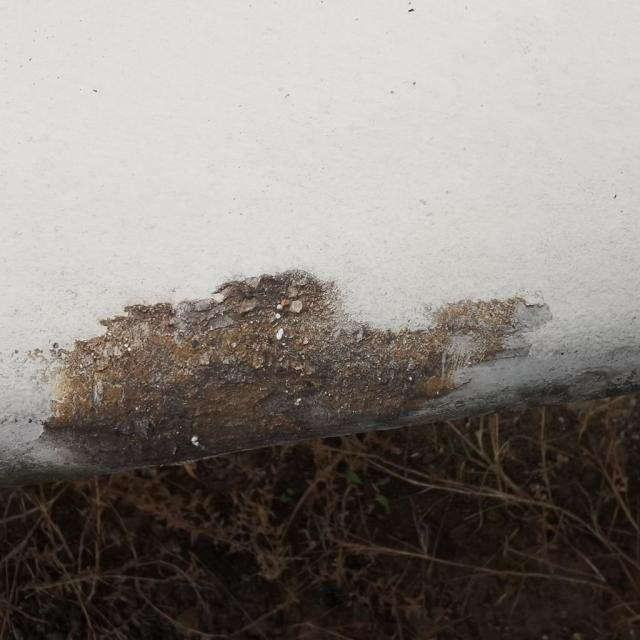corrosion: (34, 271, 538, 475)
